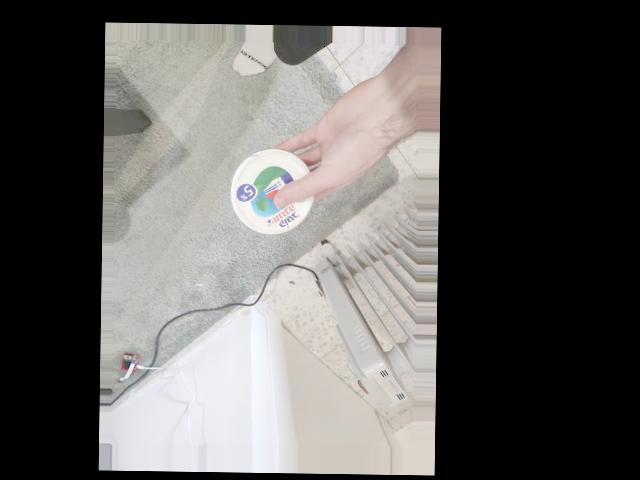cotage: (234, 150, 314, 231)
